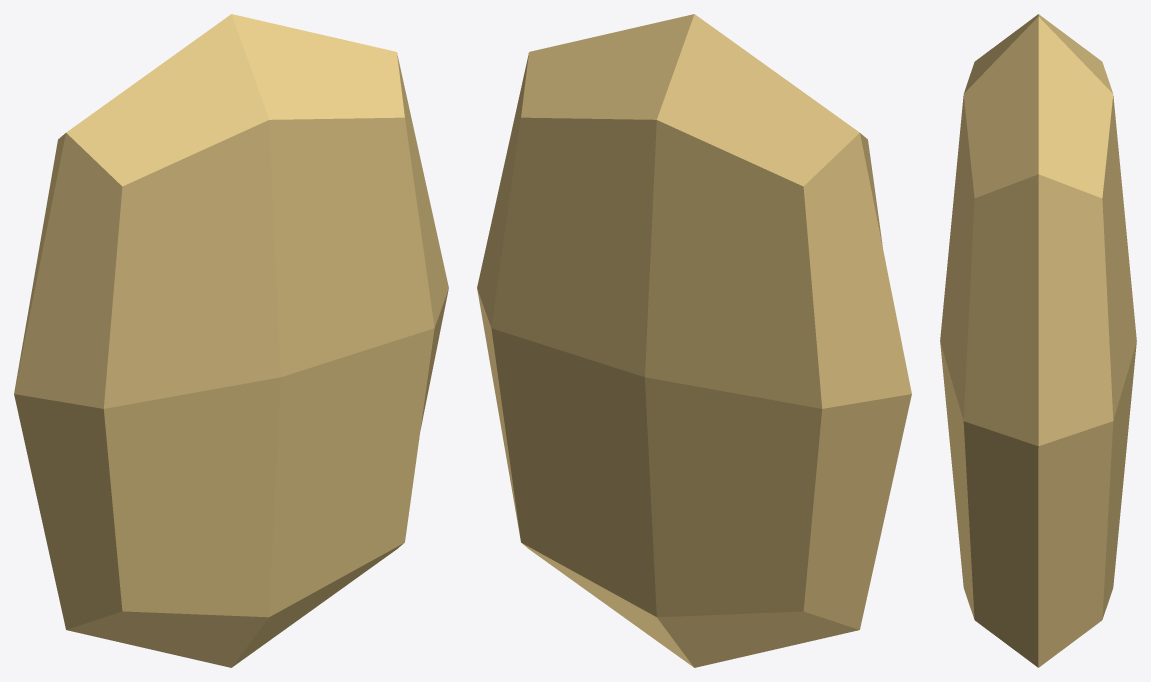
Rendered from Gem.fbx.
3 views of the same model, side by side, from view 1: azimuth 30°, elevation 25°; view 2: azimuth 150°, elevation 25°; view 3: azimuth 270°, elevation 25° (orthographic).
Visible parts, largest first — view 1: Cube; view 2: Cube; view 3: Cube.
Part boxes in pixels (bbox=[...]): Cube: bbox=[14, 14, 448, 667]; Cube: bbox=[477, 14, 911, 667]; Cube: bbox=[940, 14, 1136, 667].
Size of the model in its own units: 308 by 442 by 122.
